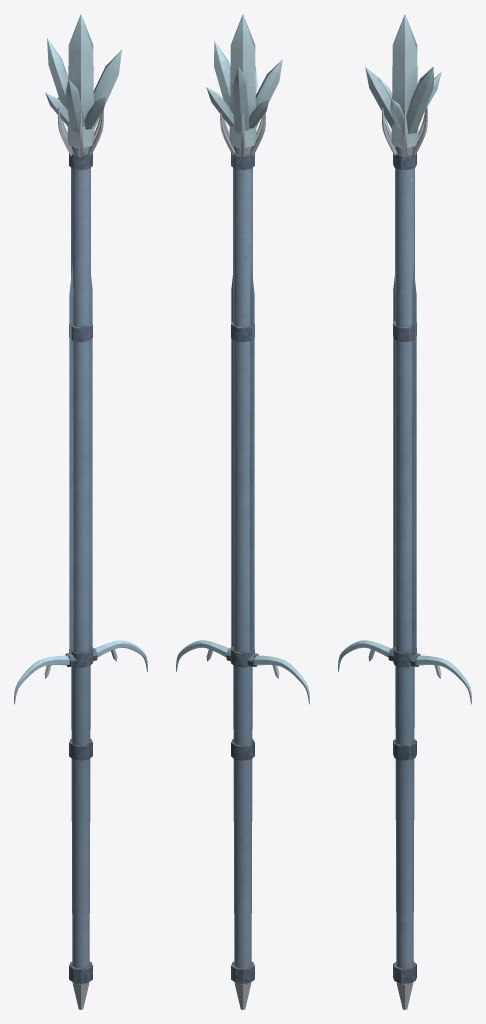
File: weapons_glacial.glb
3 renders of one model, left to right at view 1: azimuth 30°, elevation 25°; view 2: azimuth 150°, elevation 25°; view 3: azimuth 330°, elevation 25°, orthographic.
Visible parts, largest first — view 1: staff, blade; view 2: staff, blade; view 3: staff, blade.
Boxes of the visible parts, x1=… form: staff: x1=45, y1=14, x2=121, y2=1009; blade: x1=14, y1=263, x2=147, y2=704; staff: x1=206, y1=14, x2=282, y2=1009; blade: x1=176, y1=263, x2=309, y2=704; staff: x1=365, y1=14, x2=441, y2=1009; blade: x1=338, y1=269, x2=471, y2=704.
Size of the model in its own units: 0.3012 by 2.14 by 0.1495.
2 materials, 2 textured.
